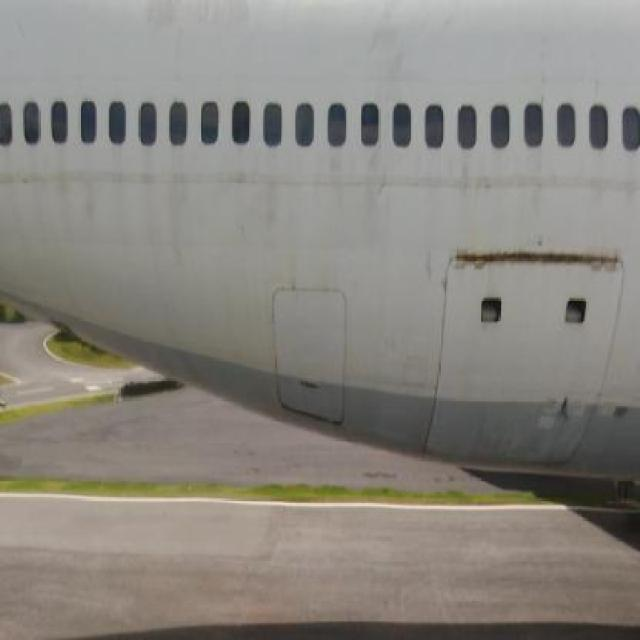Scartch: (446, 228, 626, 289)
